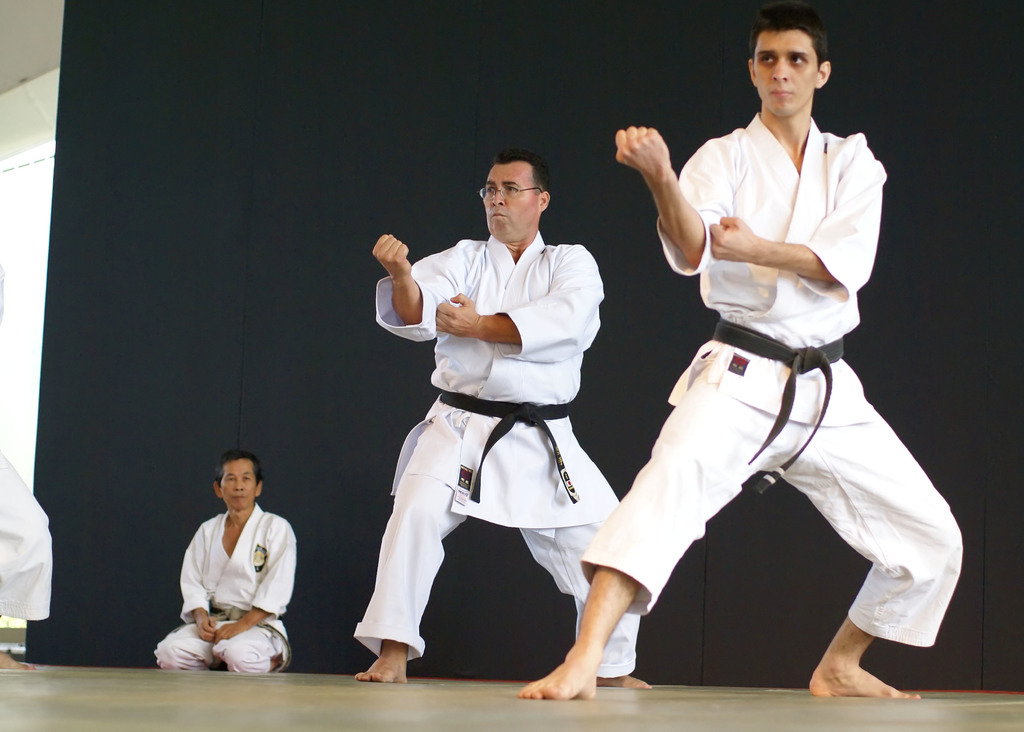Person: (0, 260, 55, 670)
